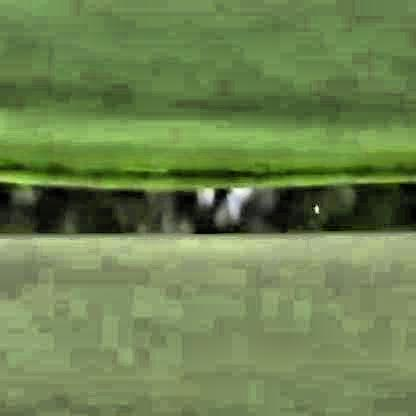golfball: (310, 198, 317, 209)
